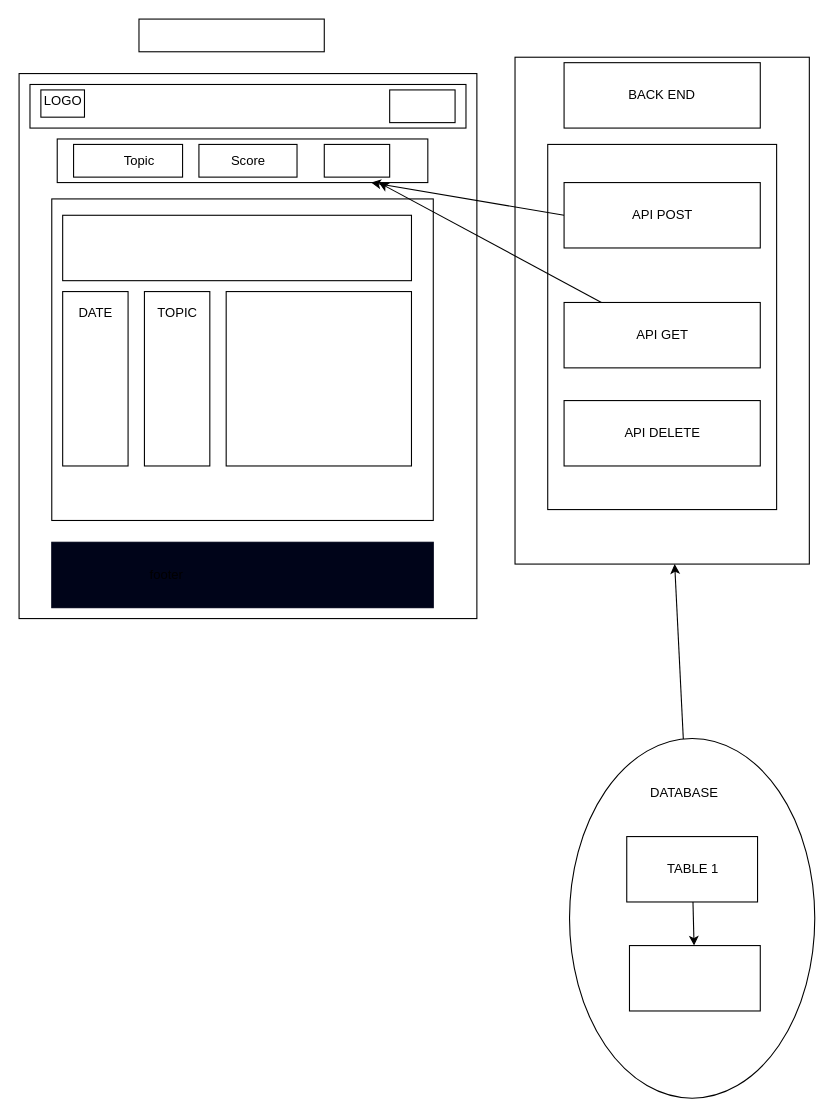
This 834x1117 diagram has some shape labels left out. Here are the shapes that lost their labels. From the top down, the box of each, then its label:
(138, 18, 324, 52): Front end
(389, 89, 455, 123): USERS
(323, 143, 390, 177): Submit
(225, 290, 411, 466): BAR CHART
(628, 944, 760, 1011): TABLE 2
